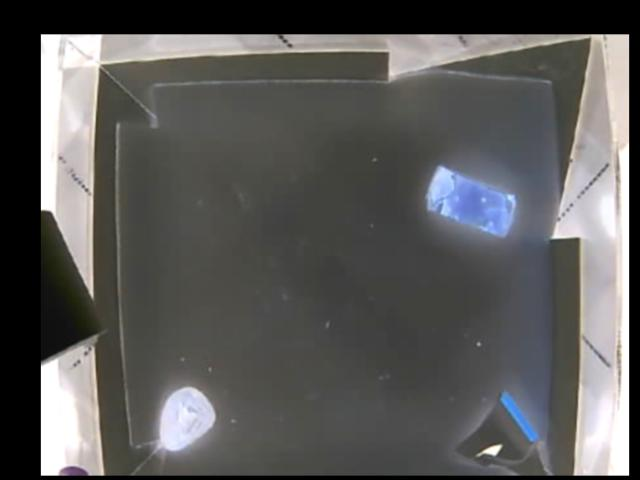China: (452, 388, 558, 475)
Pebble: (155, 386, 216, 449)
Potato: (423, 165, 521, 237)
